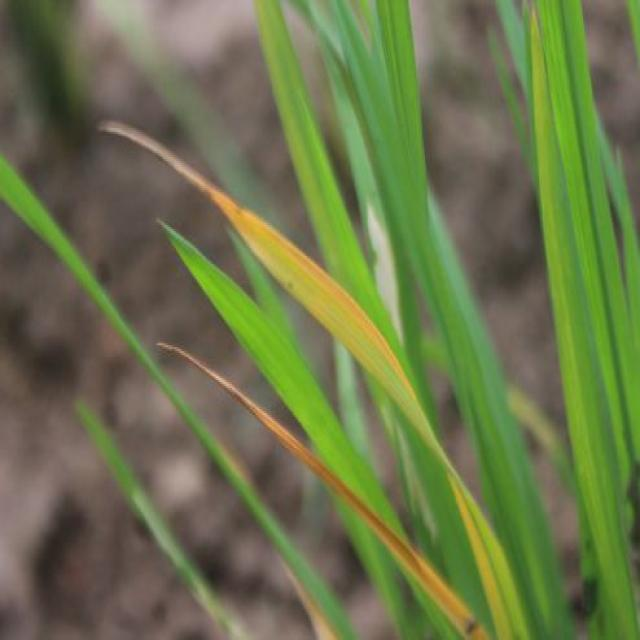Tungro: (183, 128, 513, 640)
